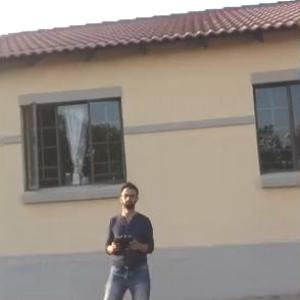follow: (102, 174, 160, 299)
